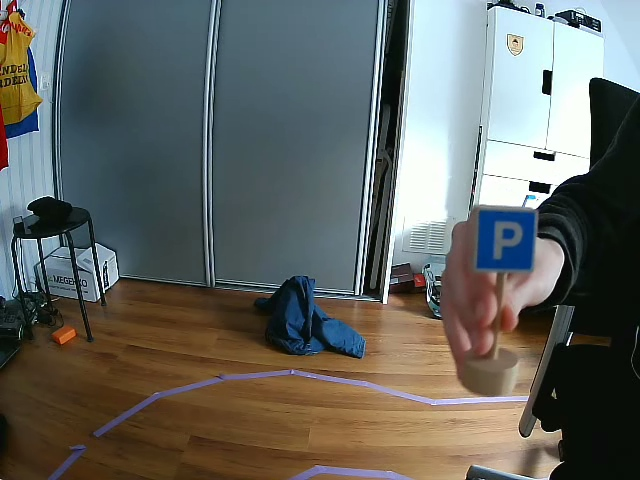parkeerbord: (472, 206, 537, 272)
